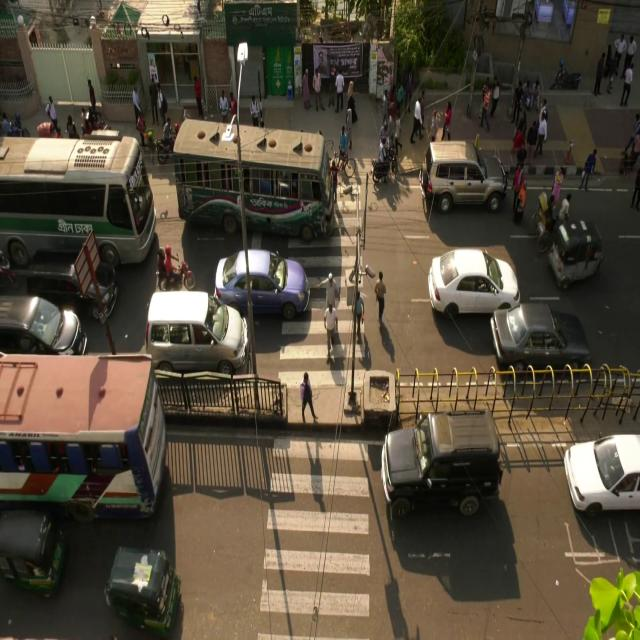black: (382, 406, 505, 520), (490, 303, 590, 376), (31, 249, 117, 322), (1, 297, 83, 357)
blue: (214, 251, 312, 324)
silver: (149, 283, 248, 372), (422, 135, 508, 216)
white: (564, 430, 640, 520), (426, 248, 520, 312)
